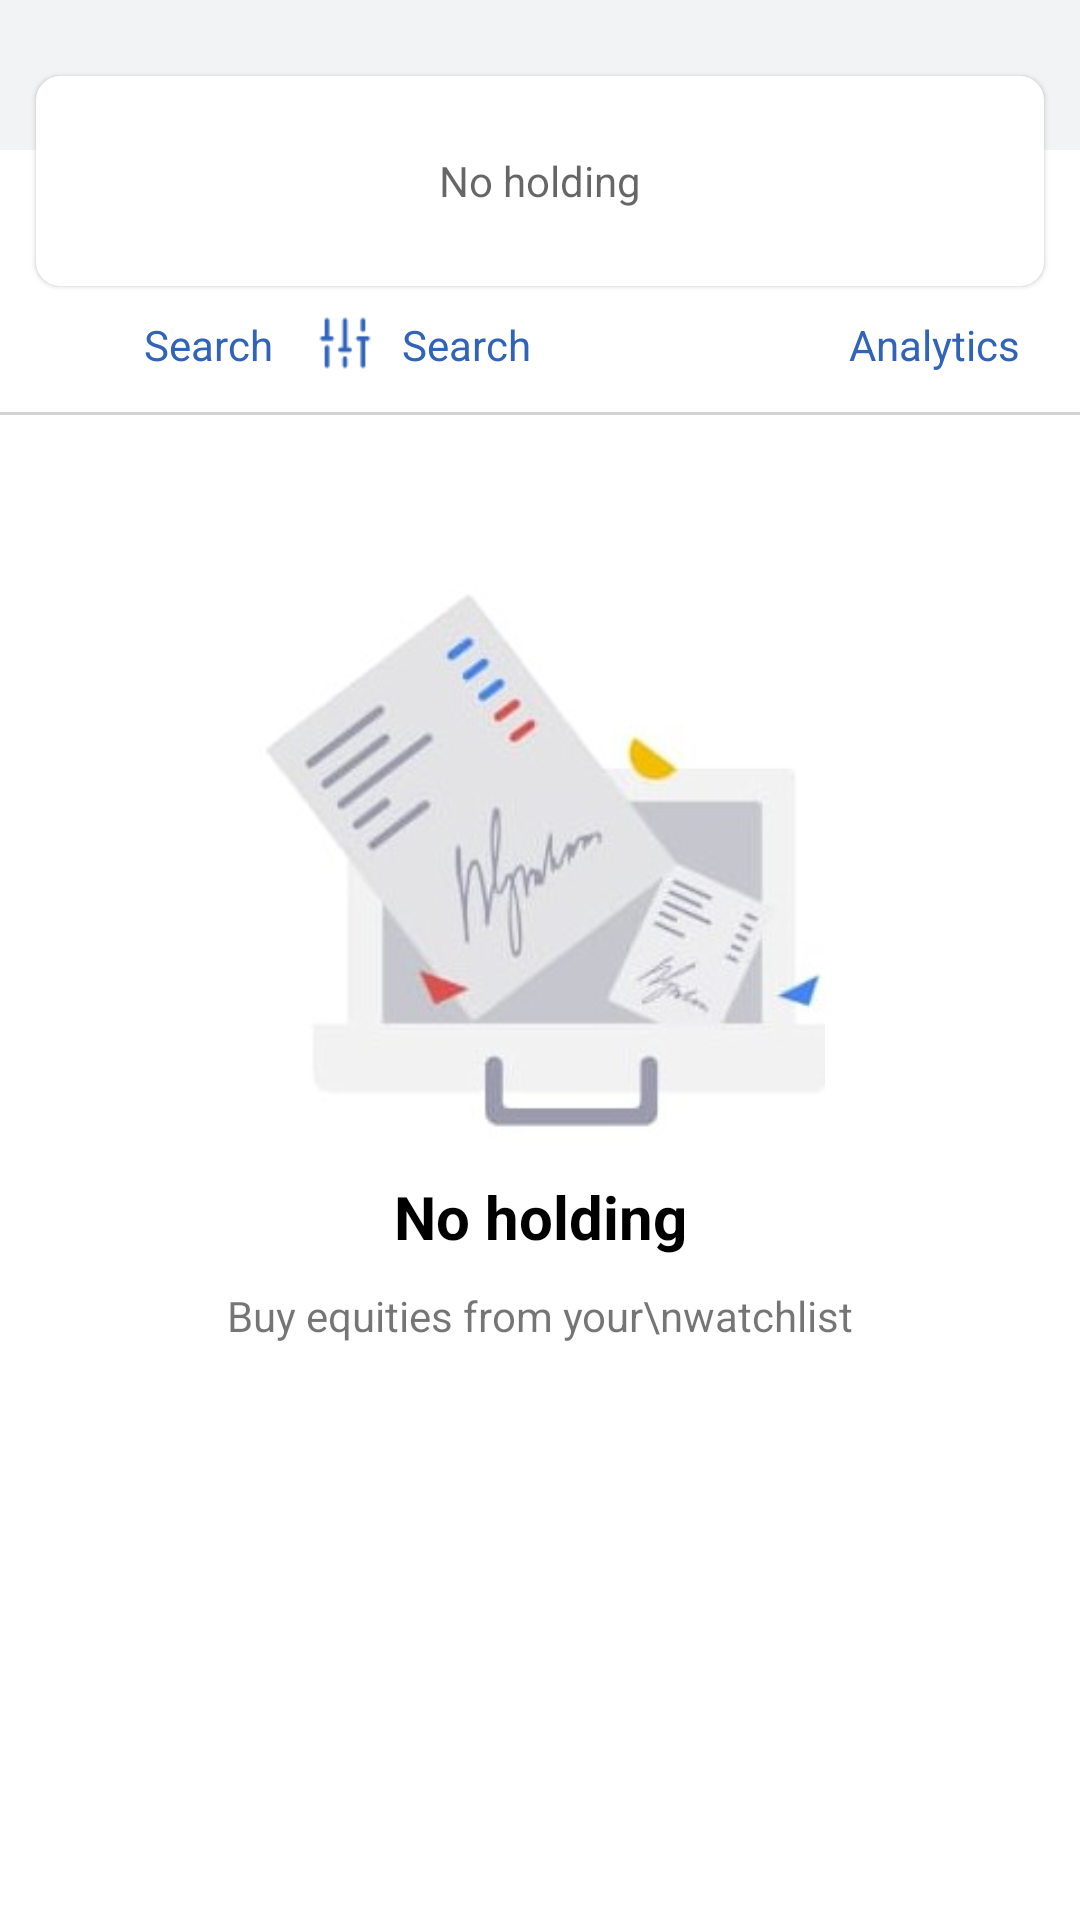

Screen size 1080*1920. Icon name, then its box in pixels as (x1, y1, x2, y2):
filters: (319, 317, 371, 369)
